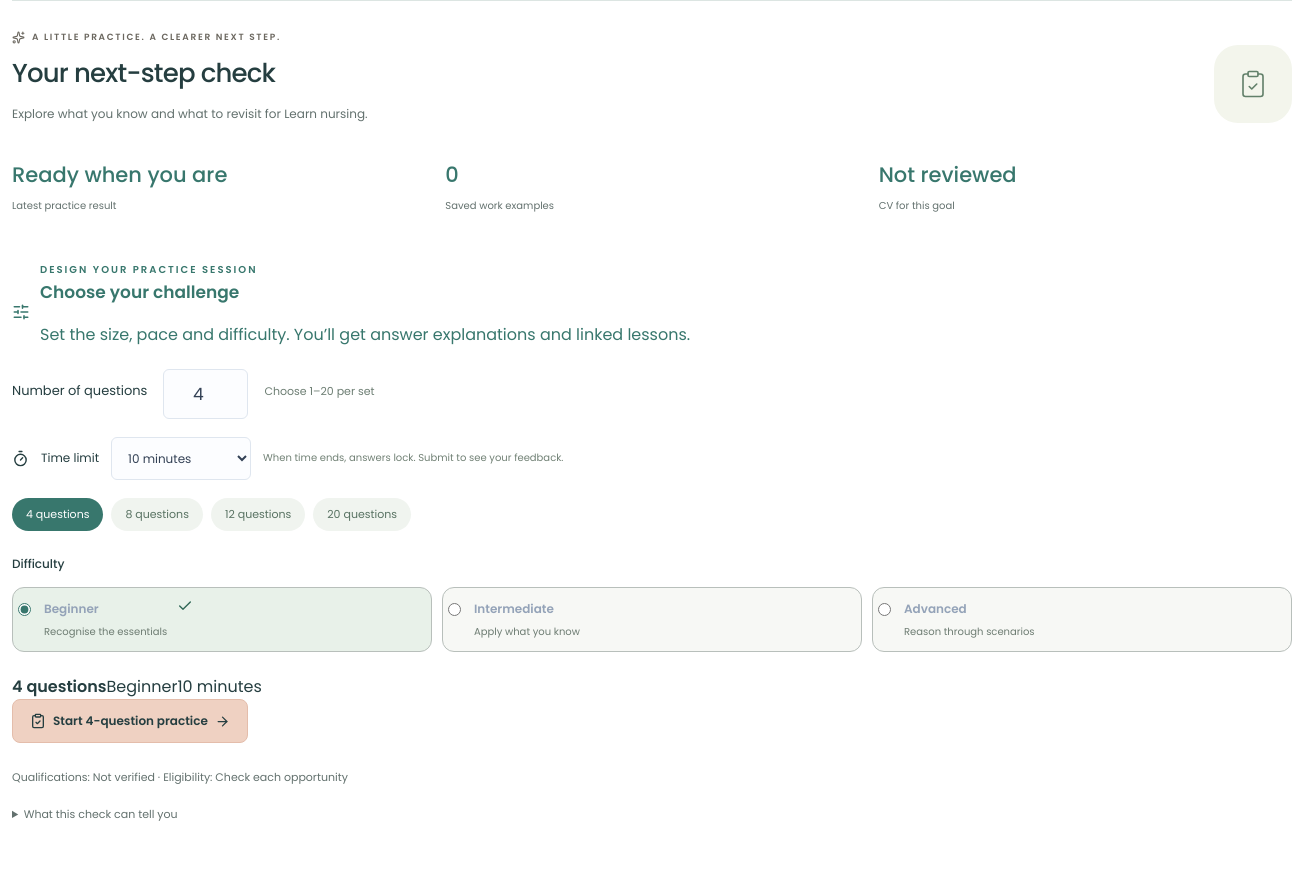
Test: custom question count and difficulty reach the API and progress follows the set
The image size is (1304, 887).
Replace the text in the number field labelled "Number of questions" with "6": (206, 394) 163,369 -> 248,419
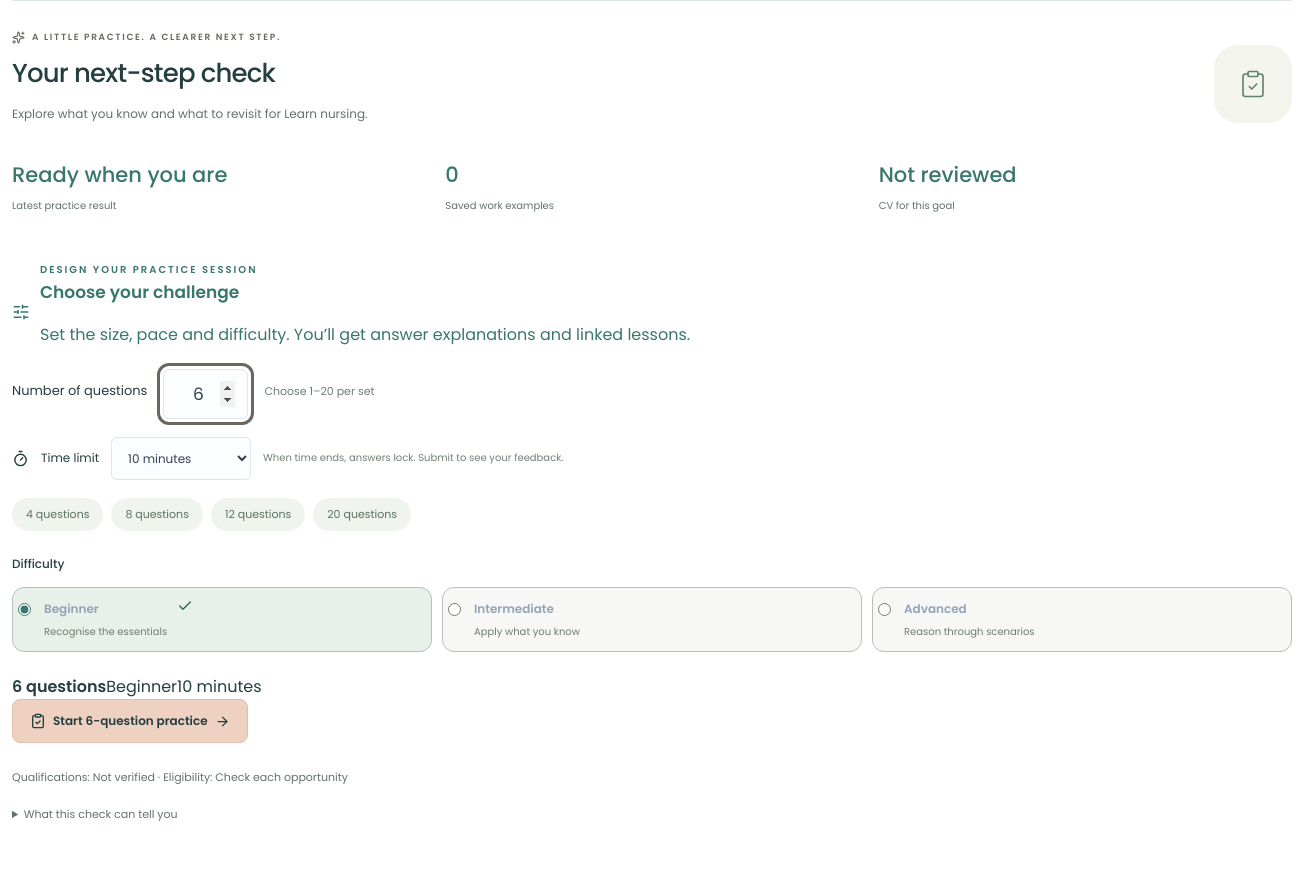
Click the radio button labelled "Intermediate Apply what you know": (454, 609) 448,603 -> 461,616
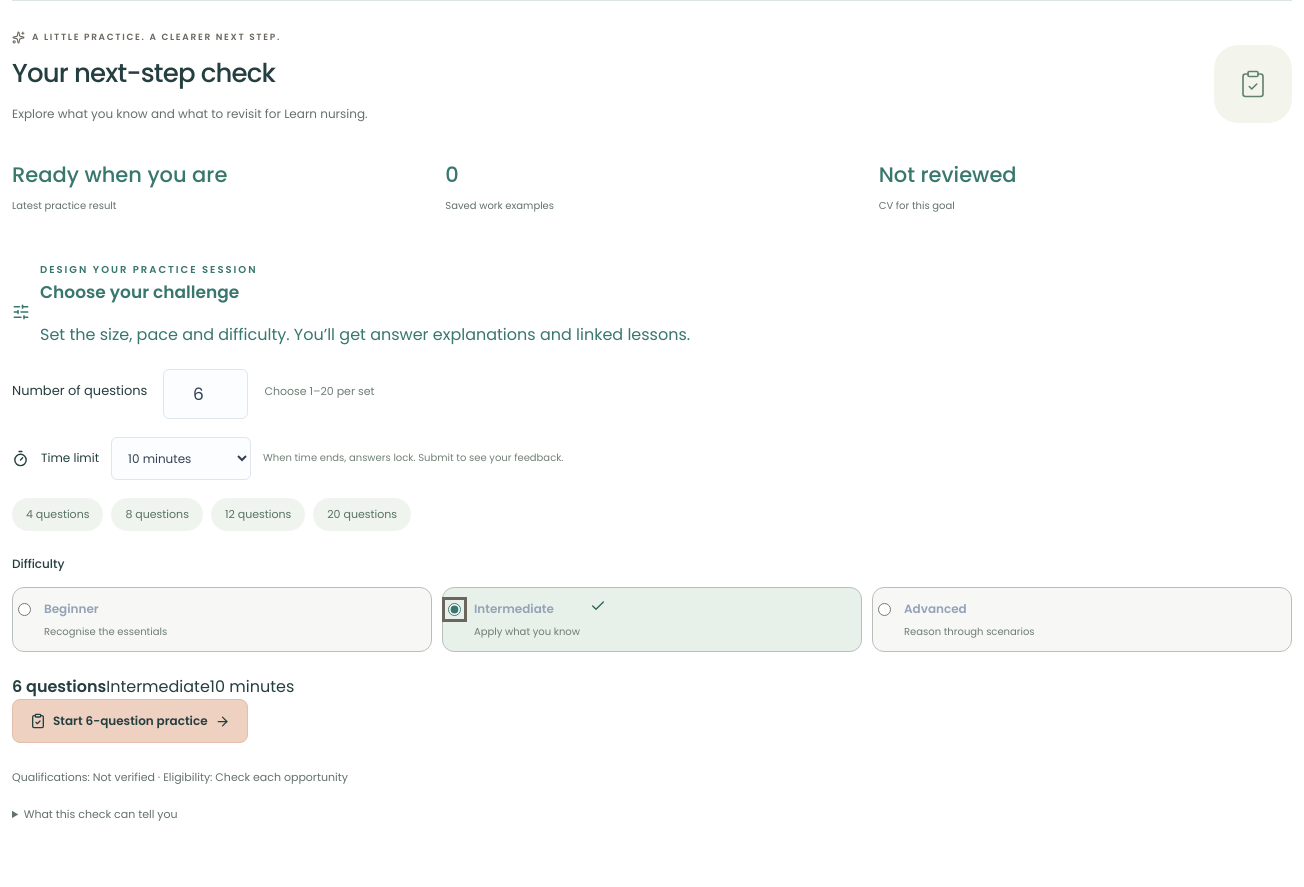
Click the button "Start 6-question practice": (130, 721) 12,699 -> 248,743
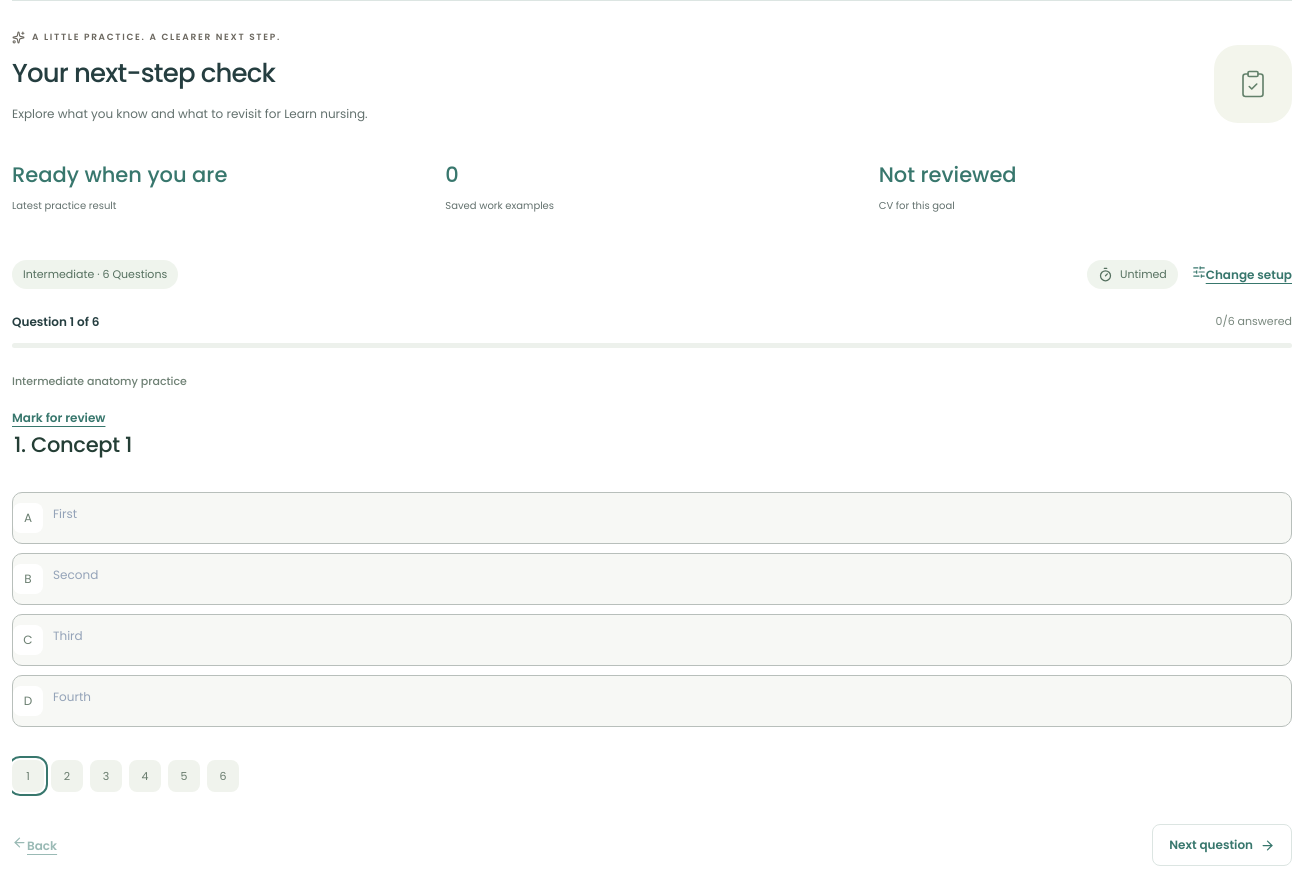
Check: the text "Question 1 of 6" is shown, box 12,313 -> 99,331
Click the radio button labelled "A First": (28, 518) 12,492 -> 1292,544
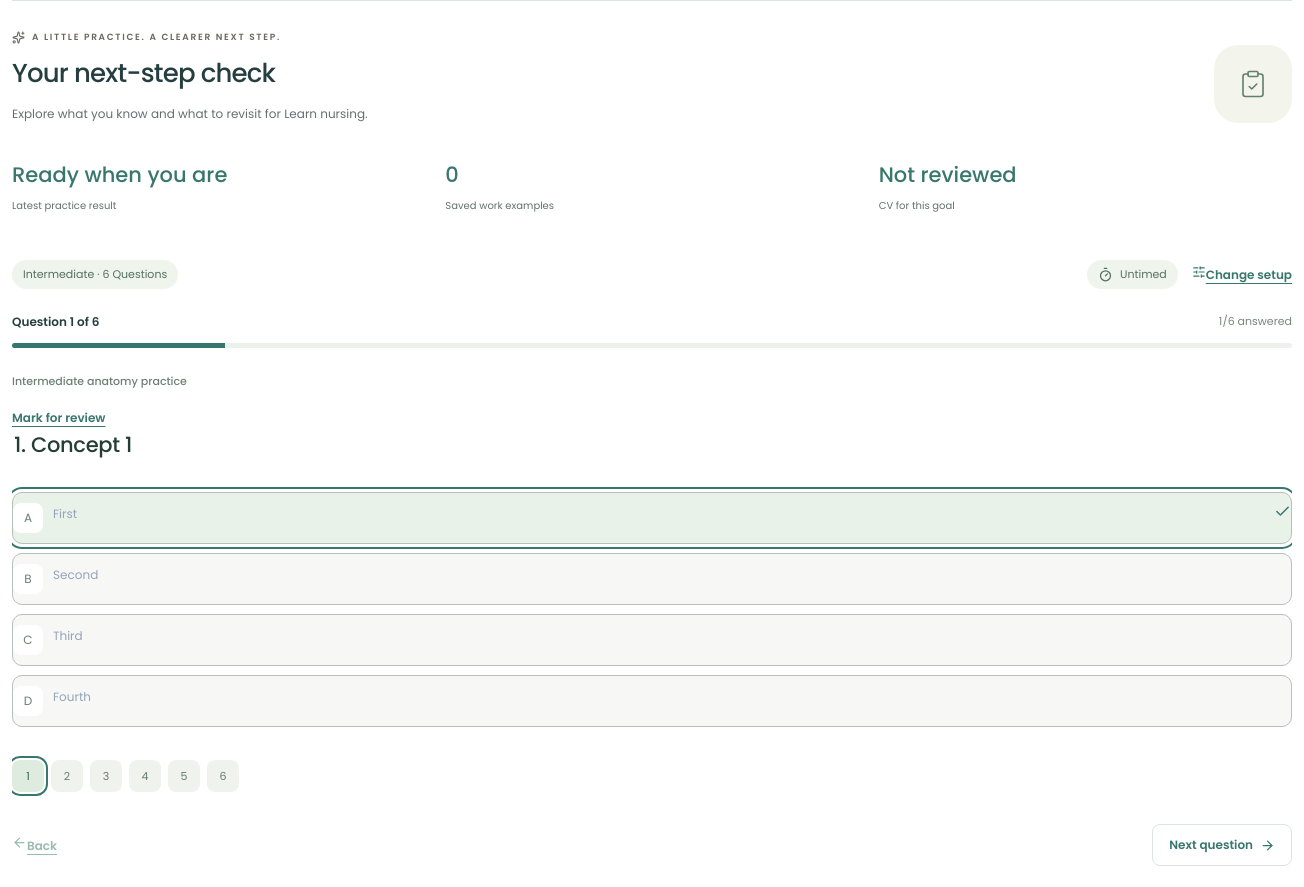
Check: the progress indicator named "Questions answered" has attribute aria-valuenow="1", box 12,343 -> 1292,348
Click the button named "Go to question 6": (223, 776) 207,760 -> 239,792
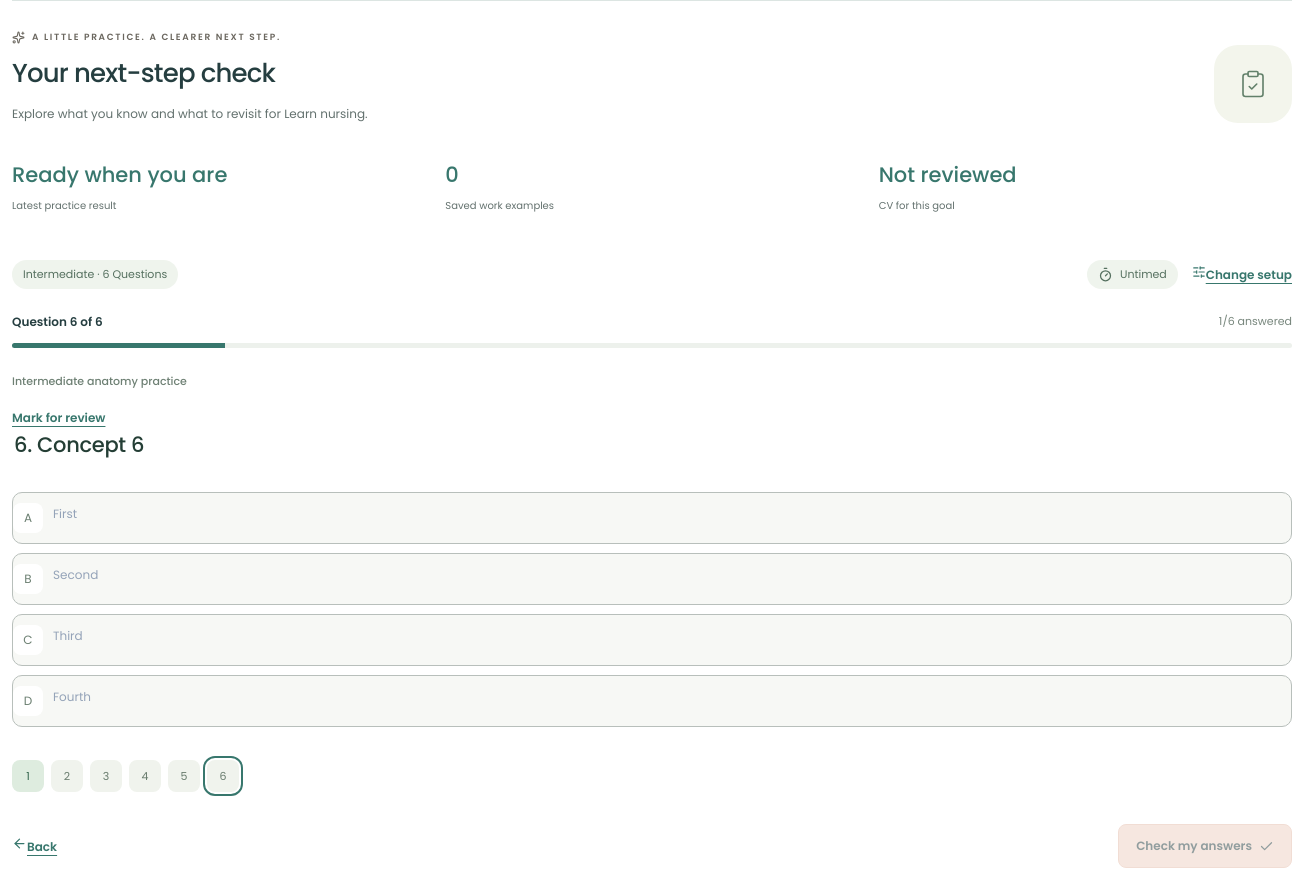
Check: the button "Check my answers" is disabled, box 1118,824 -> 1292,868
